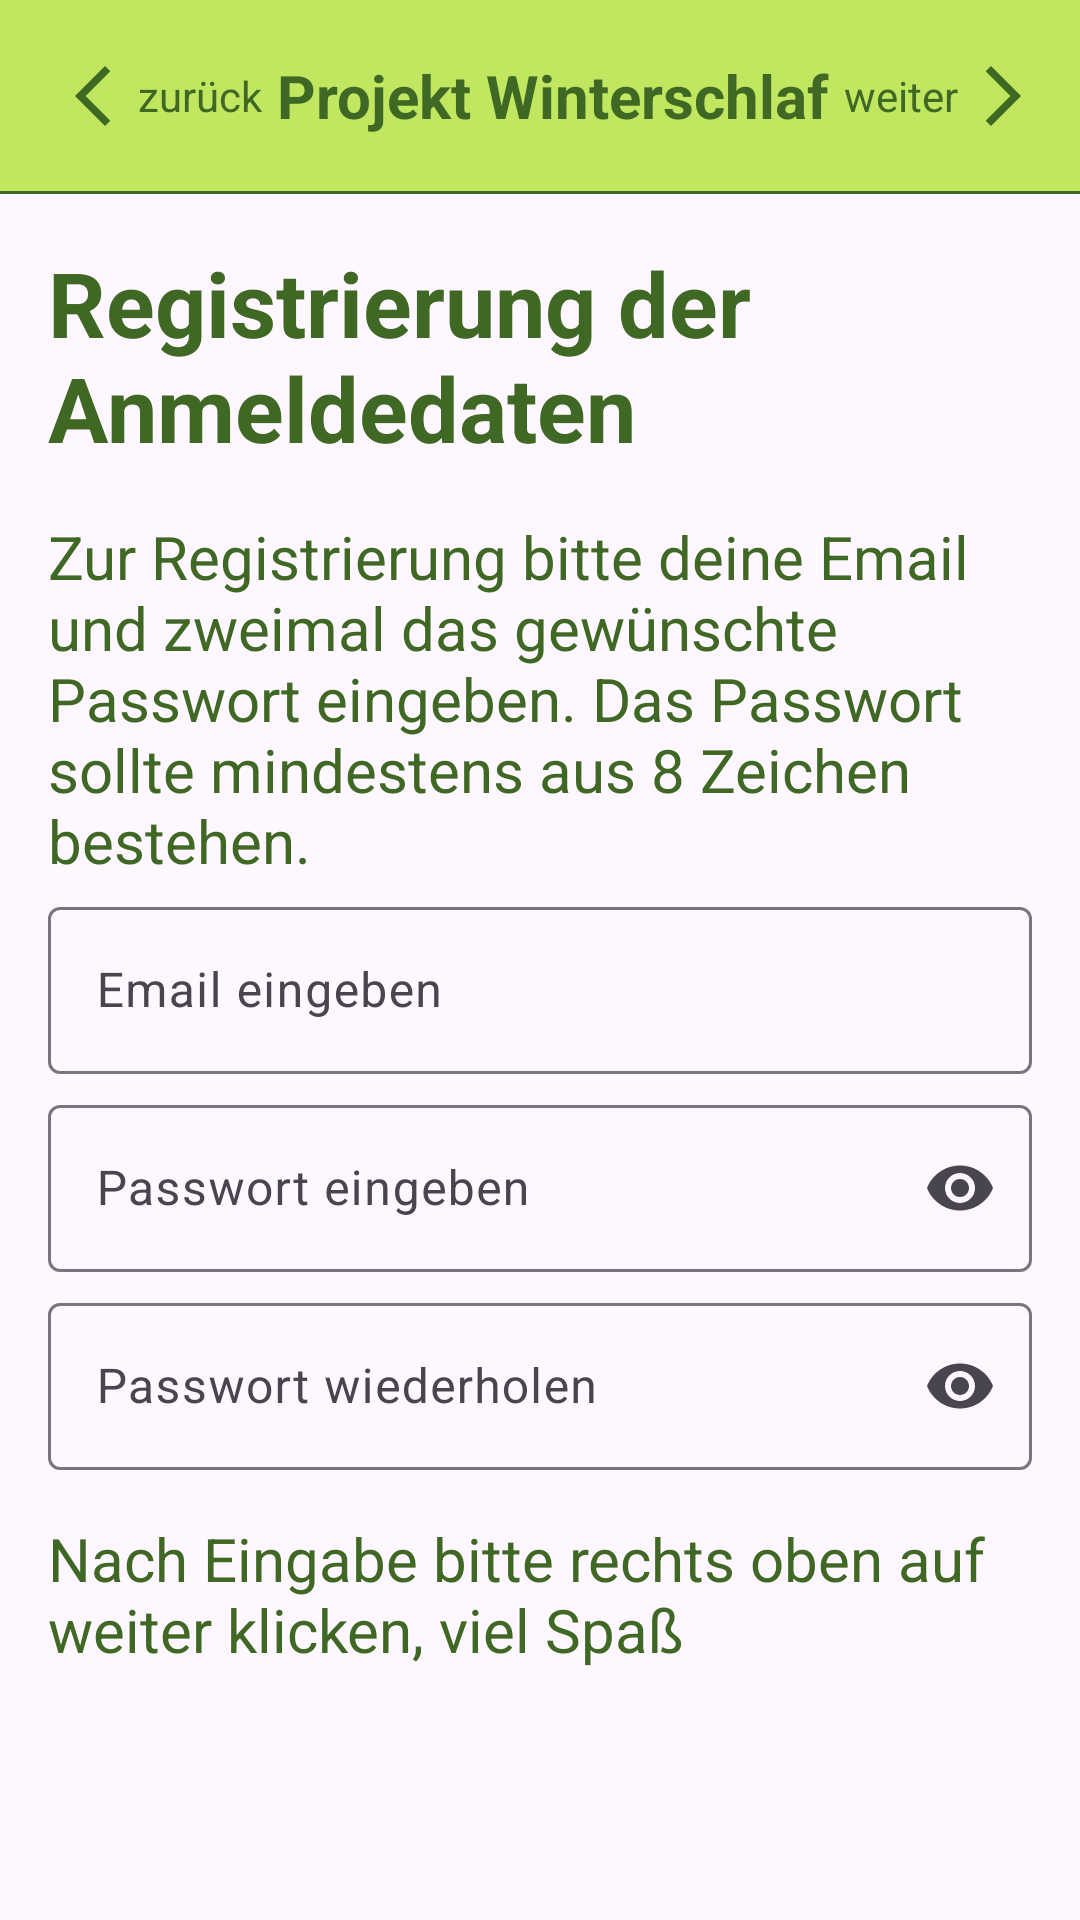

Screen size 1080×1920. Icon name, then its box in pixels as [x1=x1, y1=y1, x2=x2, y2=y2]:
back: [x1=75, y1=66, x2=110, y2=126]
